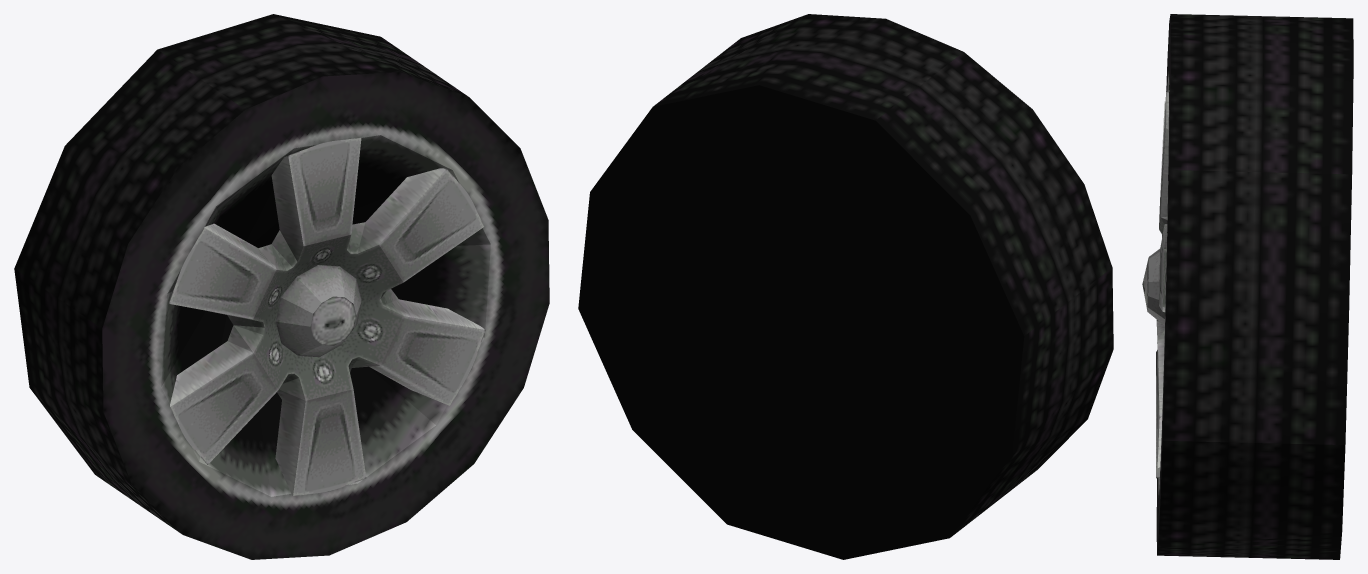
The model's file is wheel.dae.
The picture shows the model from 3 angles, left to right: view 1: azimuth 30°, elevation 25°; view 2: azimuth 150°, elevation 25°; view 3: azimuth 270°, elevation 25°; orthographic projection. The views are drawn at different scales.
Parts seen in each view (by area): view 1: Component_1 (×2); view 2: Component_1; view 3: Component_1 (×2).
Boxes of the visible parts, box(x1,y1,x2,y2) form: Component_1 (×2): box(14, 14, 549, 559); Component_1: box(578, 14, 1113, 559); Component_1 (×2): box(1142, 14, 1353, 559).
Size of the model in its own units: 34.24 by 13.51 by 34.76.
1 material, 1 textured.
